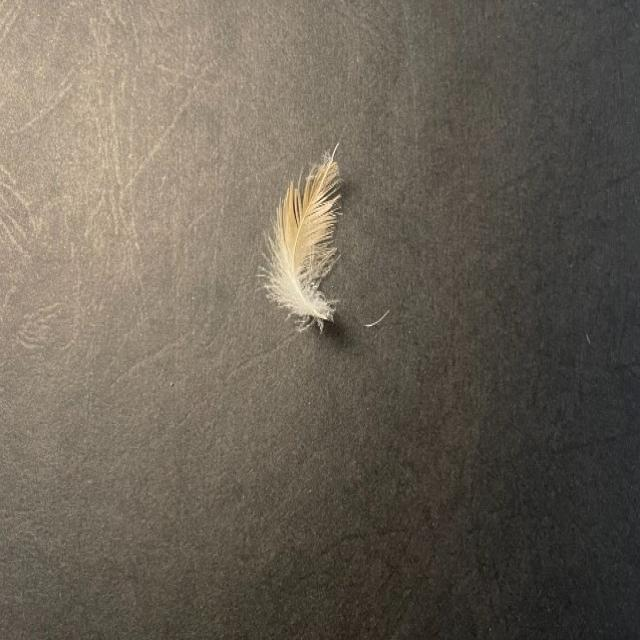feather: (254, 141, 358, 327)
